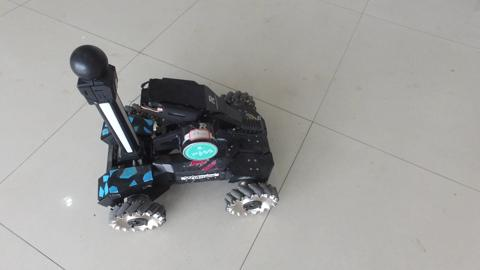chariot: (57, 65, 284, 228)
